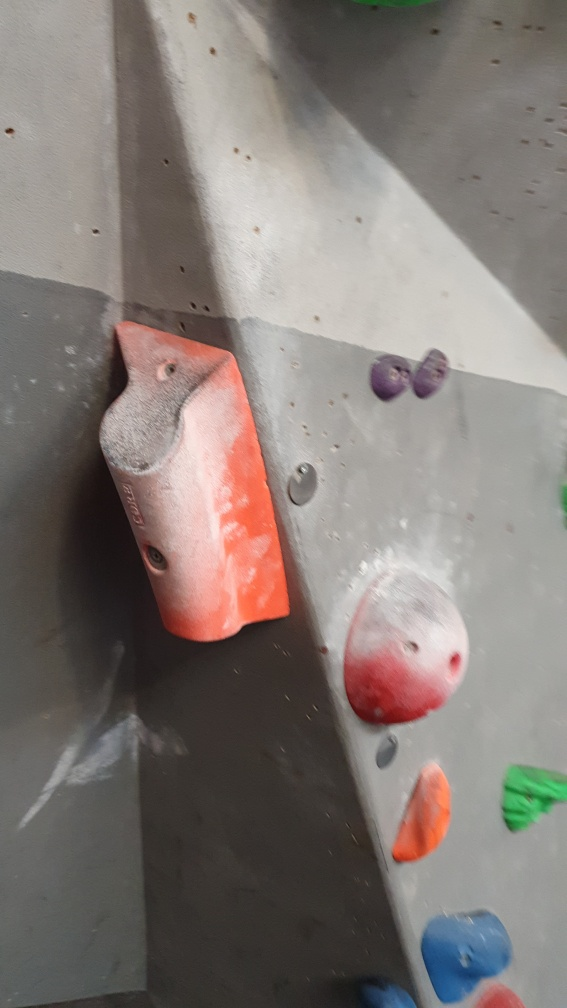Hand Start: (283, 457, 322, 507), (373, 731, 401, 772)
Pinch: (99, 315, 294, 646)
Sloper: (341, 563, 472, 727)
